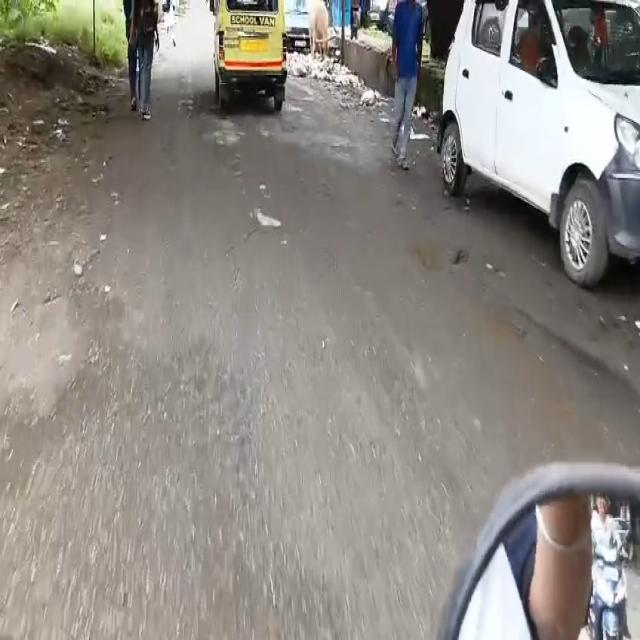road-pothole: (513, 297, 639, 434)
